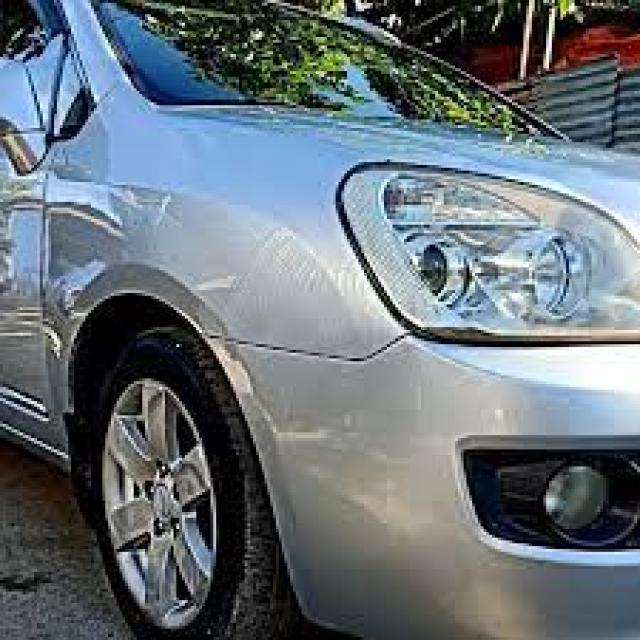minor: (15, 122, 222, 423)
